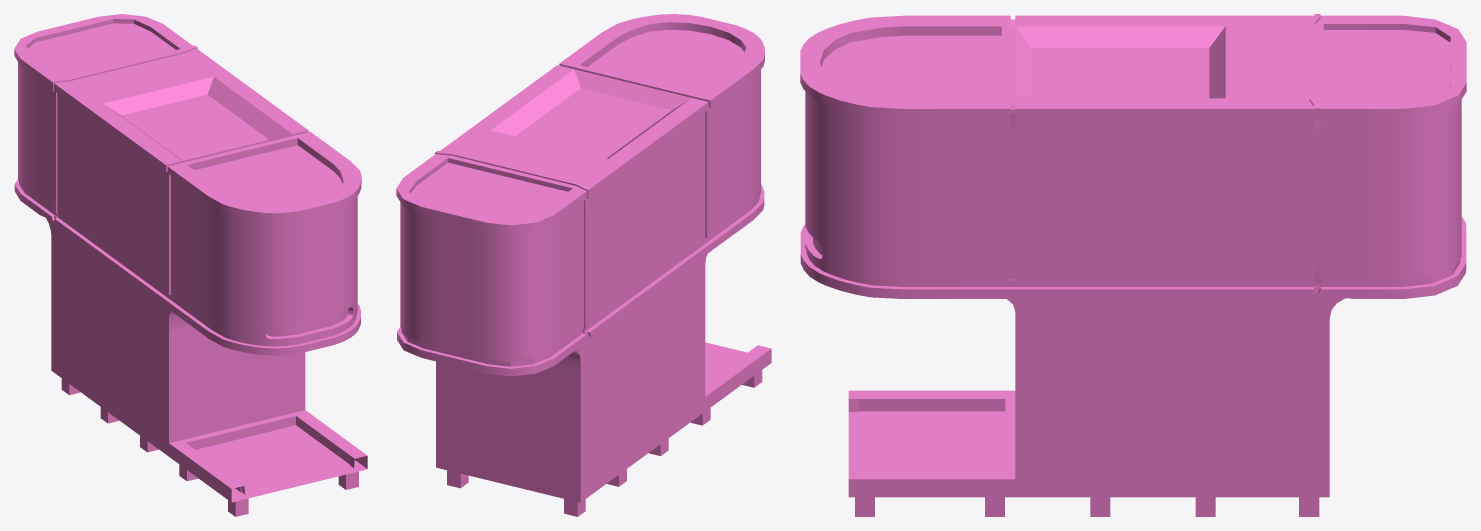
The model's file is FactoryBase.fbx.
The picture shows the model from 3 angles, left to right: view 1: azimuth 30°, elevation 25°; view 2: azimuth 150°, elevation 25°; view 3: azimuth 270°, elevation 25°; orthographic projection. The views are drawn at different scales.
Parts seen in each view (by area): view 1: FactoryBase; view 2: FactoryBase; view 3: FactoryBase.
Part boxes in pixels (x1=…): FactoryBase: x1=14, y1=14, x2=367, y2=516; FactoryBase: x1=396, y1=14, x2=771, y2=516; FactoryBase: x1=800, y1=14, x2=1466, y2=516.
Bounding box in the file's own units: 106 × 219 × 317.
